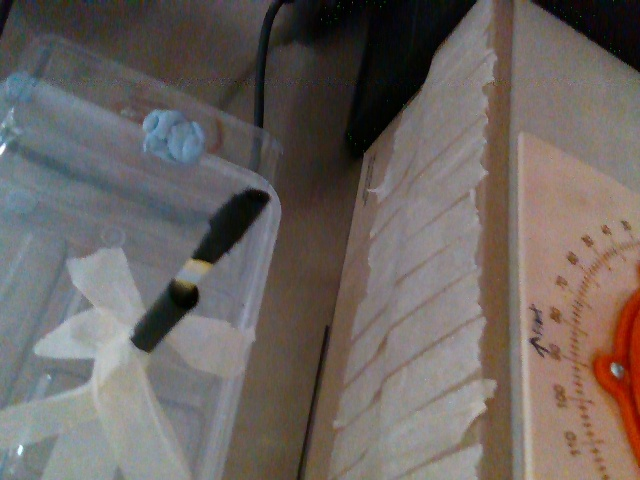test_strip: (173, 188, 268, 289)
